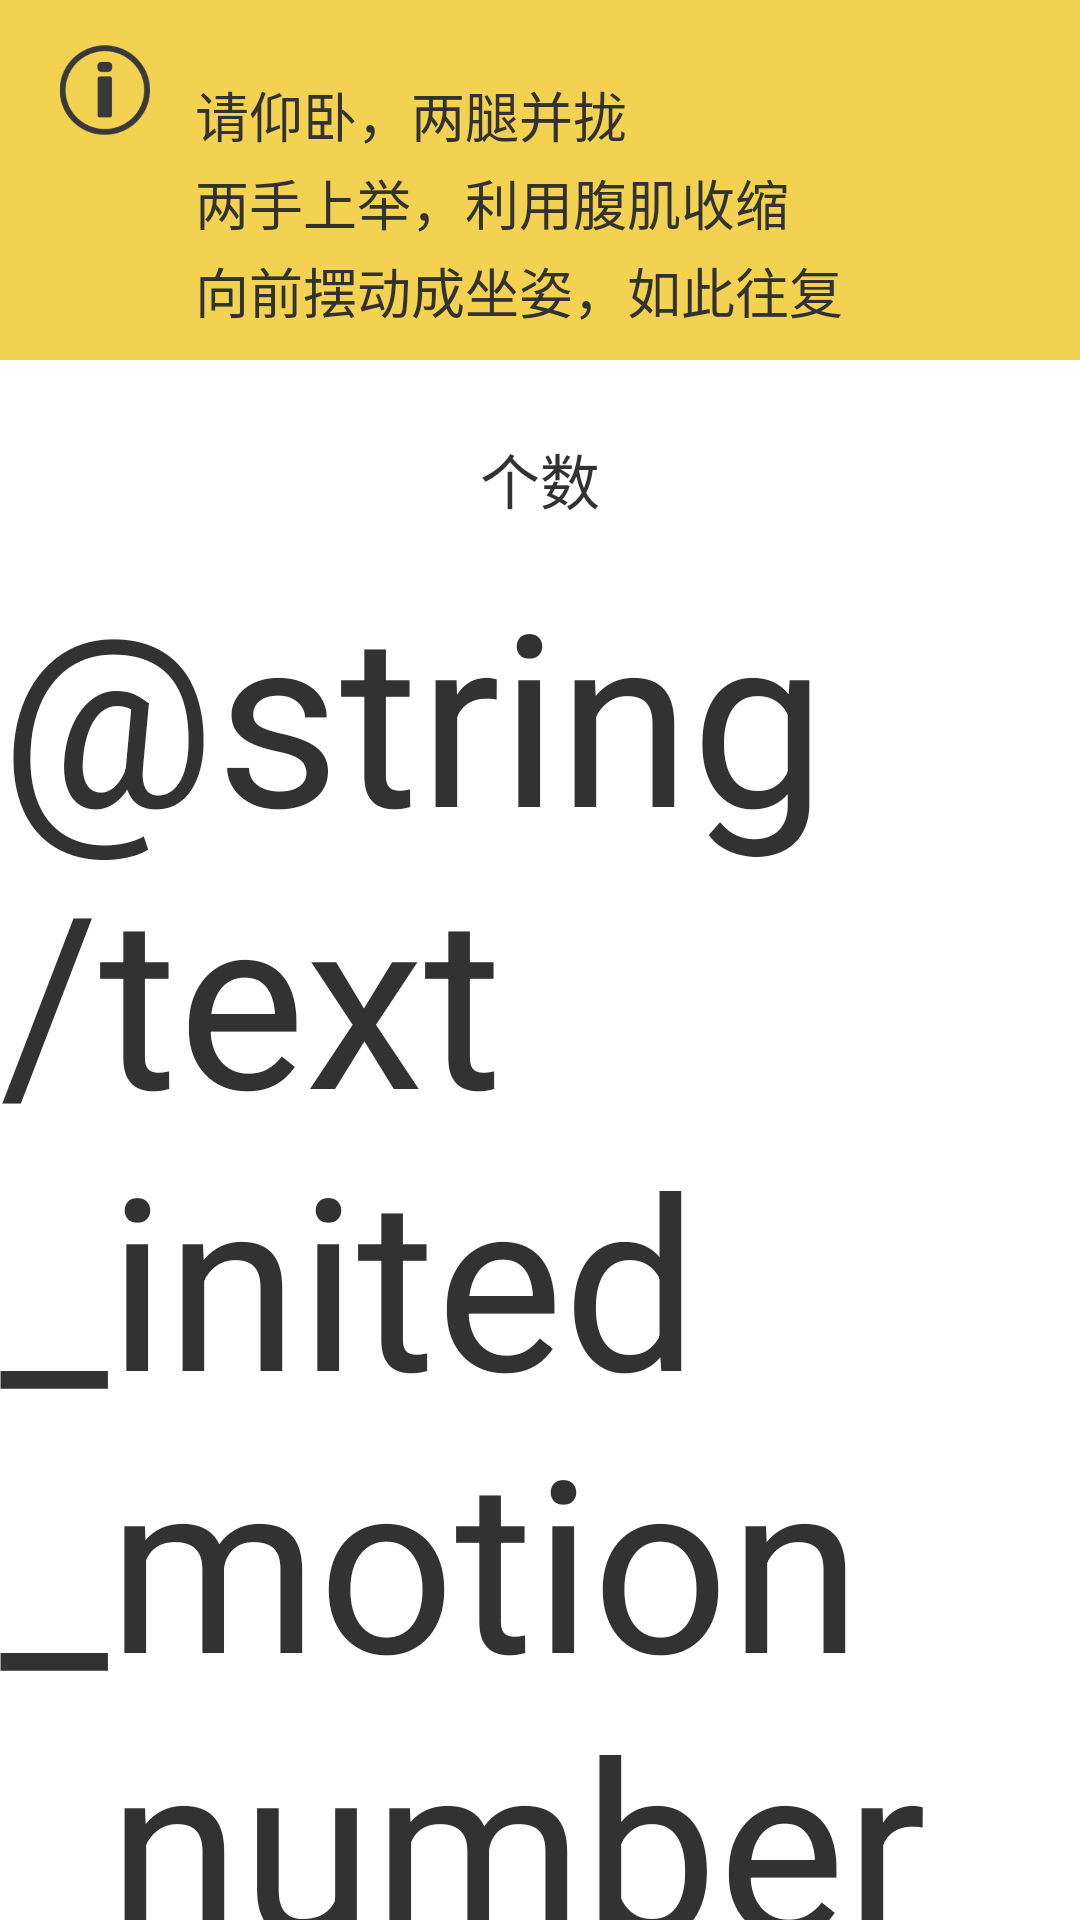

Icons on this 1080w x 1920h Android screen, each with its box as (x1=x1, y1=y1, x2=x2, y2=y2):
sport info: (x1=60, y1=45, x2=150, y2=135)
